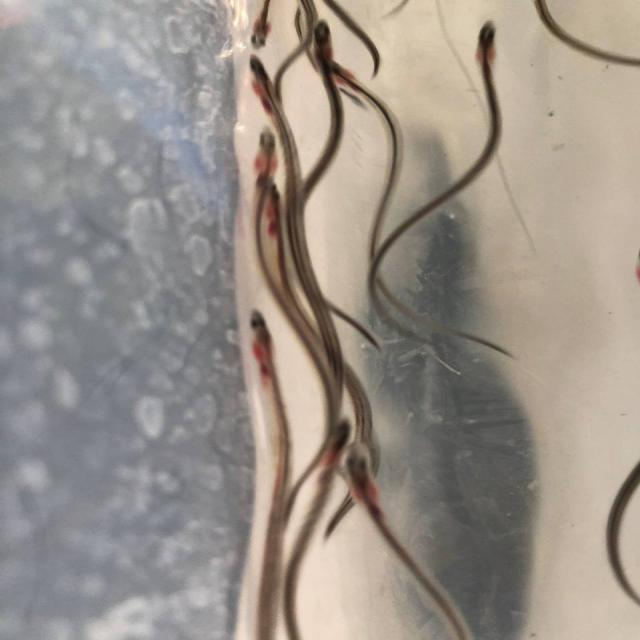glass_eel: (324, 432, 382, 513), (238, 303, 292, 381), (245, 118, 297, 191), (225, 50, 284, 111), (297, 14, 356, 75), (245, 171, 295, 240), (460, 13, 512, 79), (310, 418, 363, 478), (235, 0, 284, 52)
